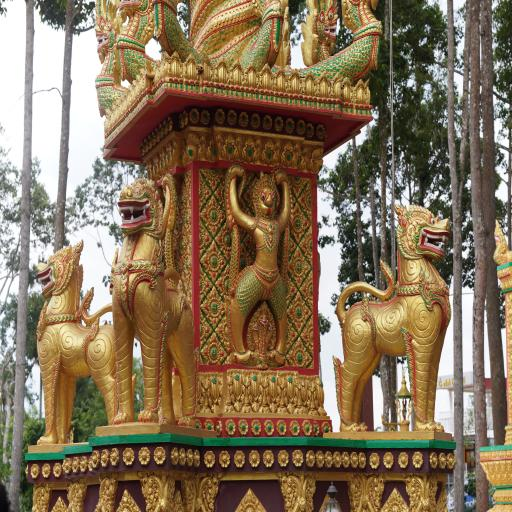hoa: (202, 283, 224, 326), (285, 337, 314, 368), (288, 294, 312, 331), (288, 244, 310, 284), (200, 197, 224, 233), (200, 329, 223, 365), (203, 245, 226, 278), (290, 202, 308, 238), (218, 223, 237, 256), (202, 166, 224, 191), (286, 174, 309, 197), (313, 121, 327, 142), (247, 449, 261, 470), (260, 112, 274, 132), (120, 446, 134, 466), (276, 449, 290, 469), (237, 107, 249, 130), (213, 106, 226, 127), (248, 417, 262, 436), (272, 114, 284, 136), (191, 446, 203, 468), (248, 111, 260, 132), (152, 448, 166, 466), (261, 449, 275, 467), (236, 417, 249, 436), (283, 115, 294, 137), (295, 118, 306, 140), (137, 447, 149, 467), (202, 450, 214, 470), (234, 450, 246, 470), (287, 418, 300, 436), (226, 106, 237, 127), (397, 450, 408, 471), (291, 449, 303, 468), (178, 108, 188, 130), (200, 108, 211, 128), (304, 120, 315, 140), (219, 447, 230, 467), (340, 447, 350, 469), (412, 448, 422, 470), (276, 418, 288, 436), (320, 420, 332, 438), (304, 450, 316, 468), (139, 136, 147, 161), (263, 417, 273, 437), (108, 448, 118, 468), (184, 445, 194, 465), (314, 448, 324, 468), (428, 450, 438, 470), (437, 448, 446, 470), (190, 106, 198, 130), (41, 463, 51, 482), (384, 451, 394, 470), (226, 415, 235, 436), (202, 419, 216, 432), (99, 450, 109, 468), (332, 449, 341, 469), (370, 452, 380, 470), (358, 450, 366, 472), (446, 451, 455, 470), (30, 464, 40, 481), (90, 448, 98, 469), (214, 419, 223, 437), (302, 416, 311, 434), (53, 462, 62, 480), (166, 113, 174, 133), (178, 445, 186, 465), (325, 448, 333, 468), (153, 124, 160, 146), (311, 419, 319, 437), (170, 448, 178, 466), (63, 457, 72, 472), (73, 454, 79, 475), (351, 448, 357, 469), (158, 121, 164, 141), (162, 116, 168, 136), (80, 453, 86, 472), (146, 134, 152, 152), (150, 128, 154, 148), (88, 453, 92, 471)
la: (298, 374, 322, 414), (278, 369, 299, 412), (246, 372, 266, 417), (226, 370, 246, 413), (205, 372, 224, 412), (192, 371, 208, 416), (263, 370, 280, 411), (182, 132, 202, 160), (219, 134, 240, 160), (239, 136, 258, 164), (262, 138, 278, 167), (300, 144, 315, 171), (281, 141, 295, 165)
ran: (310, 0, 387, 84), (90, 1, 131, 115), (112, 0, 157, 83), (239, 0, 288, 75), (154, 0, 206, 66), (294, 0, 340, 73), (493, 216, 510, 266)
than: (337, 190, 461, 450), (98, 156, 198, 438), (30, 236, 126, 456), (223, 164, 295, 368)
